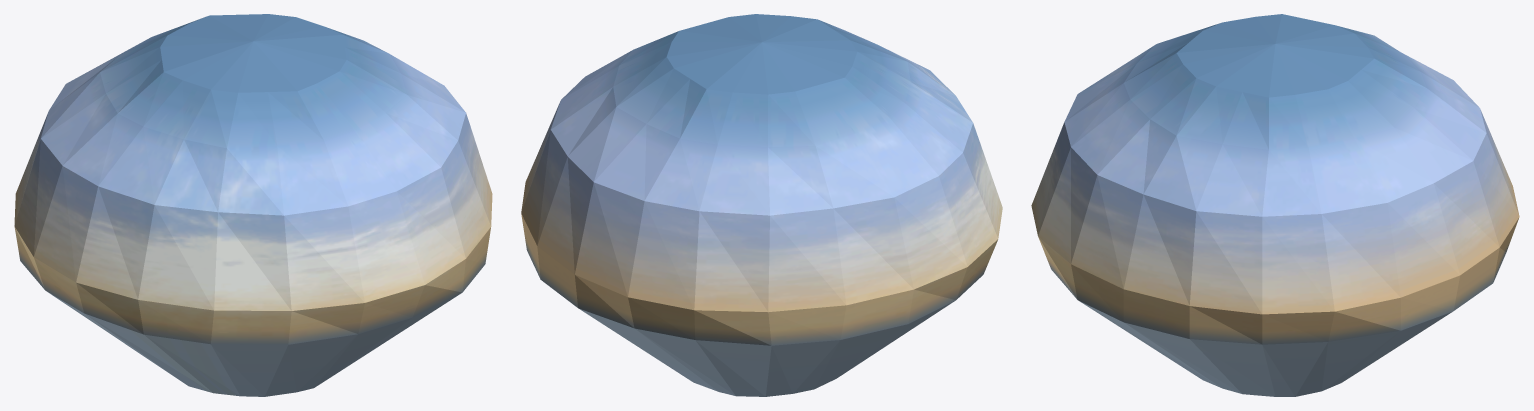
Rendered from C2M2SKY.obj.
3 views of the same model, side by side, from view 1: azimuth 30°, elevation 25°; view 2: azimuth 150°, elevation 25°; view 3: azimuth 270°, elevation 25° (orthographic).
Visible parts, largest first — view 1: Node 0; view 2: Node 0; view 3: Node 0.
Boxes of the visible parts, left/top/right/bottom form: Node 0: left=14, top=14, right=492, bottom=396; Node 0: left=521, top=14, right=1002, bottom=396; Node 0: left=1031, top=14, right=1519, bottom=396.
Size of the model in its own units: 0.74 by 0.53 by 0.74.
Materials: 1 (1 with a texture image).
